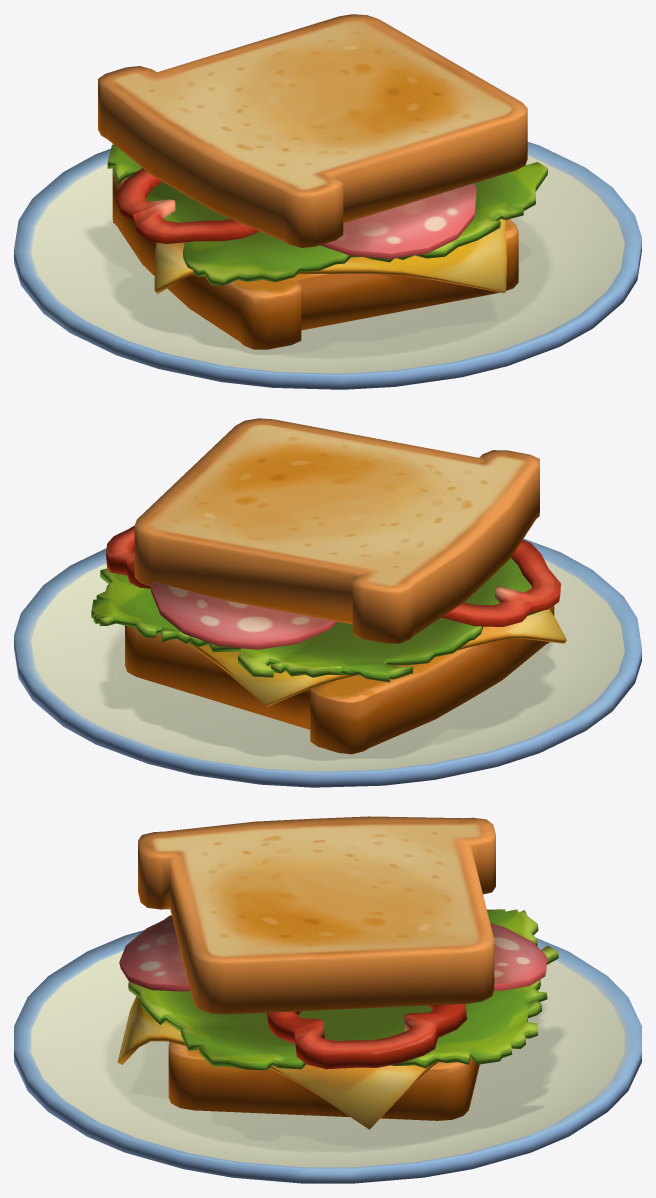
File: sandwich-colored.fbx
3 views of the same model, one above another, from view 1: azimuth 30°, elevation 25°; view 2: azimuth 150°, elevation 25°; view 3: azimuth 270°, elevation 25° (orthographic).
Visible parts, largest first — view 1: Vert, Cylinder; view 2: Vert, Cylinder; view 3: Vert, Cylinder.
Part boxes in pixels (x1,y1,x2,y2): Vert: (98,14,547,349); Cylinder: (14,142,641,389); Vert: (91,418,566,754); Cylinder: (14,538,641,787); Vert: (117,816,558,1129); Cylinder: (14,930,641,1183).
Size of the model in its own units: 416 by 130 by 416.
2 materials, 2 textured.
